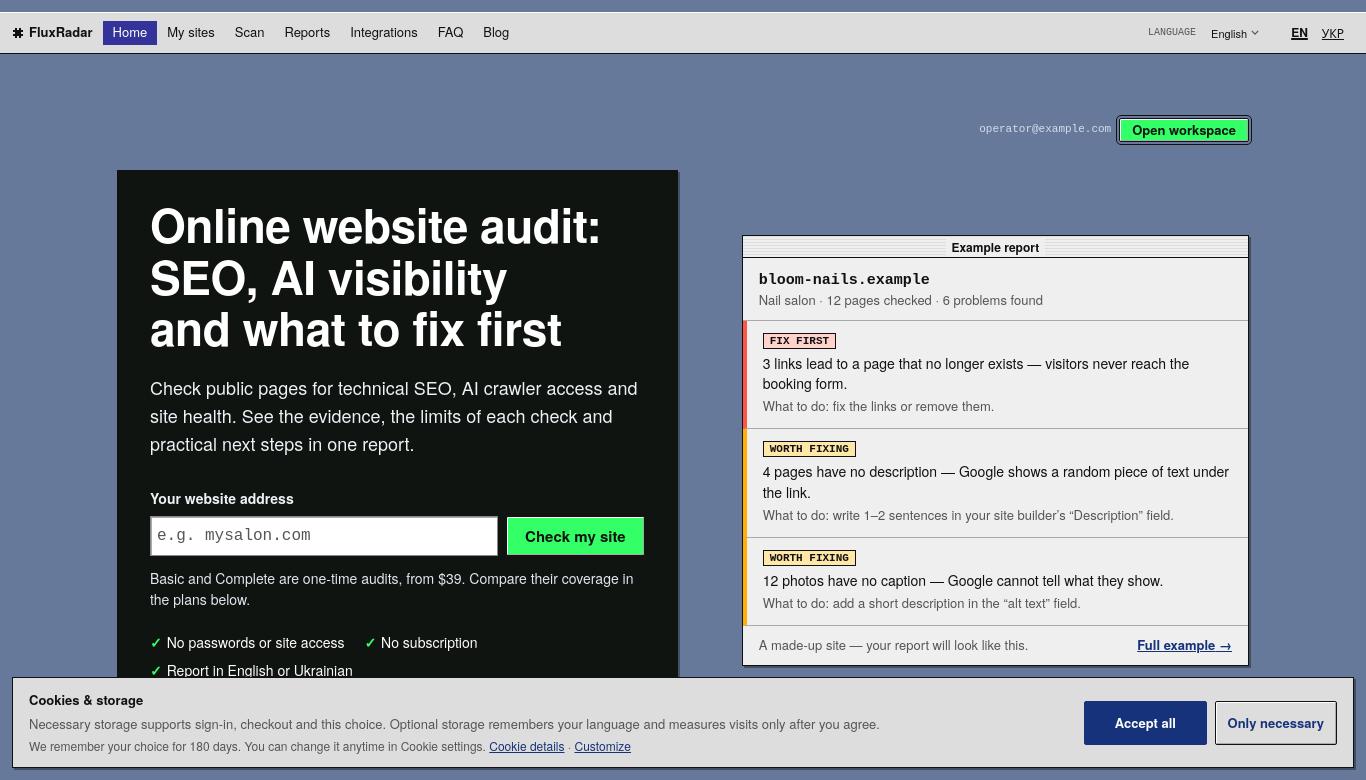
paid checkout flow › falls back to the neutral sentence when the config cannot be read
Expected: the text "operator@example.com" is shown, [979,122,1111,138]
Click the button "Open workspace" at x=1184, y=130, box [1119,118,1249,142]
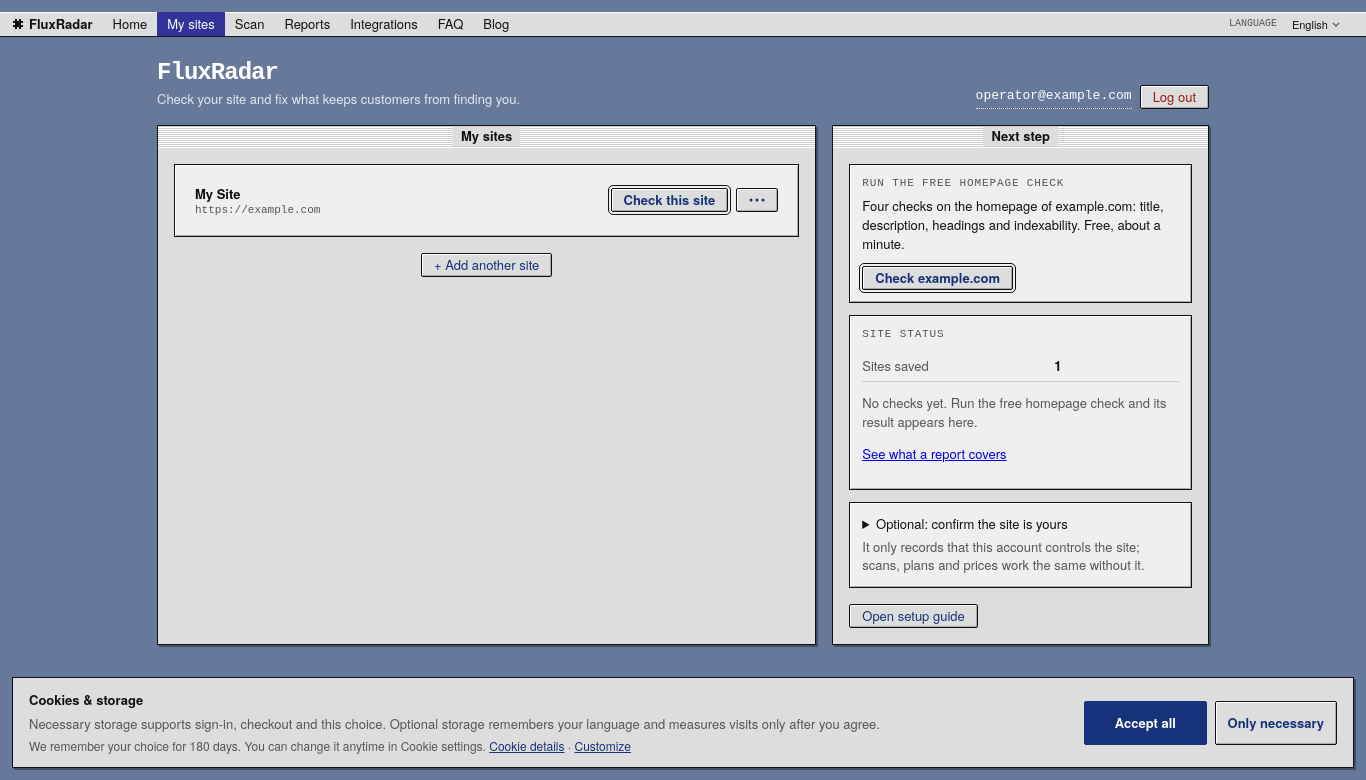
Now the text "My sites" is shown, box [453,127,520,146]
Click the button "Check this site" at x=669, y=200, box [610,188,728,212]
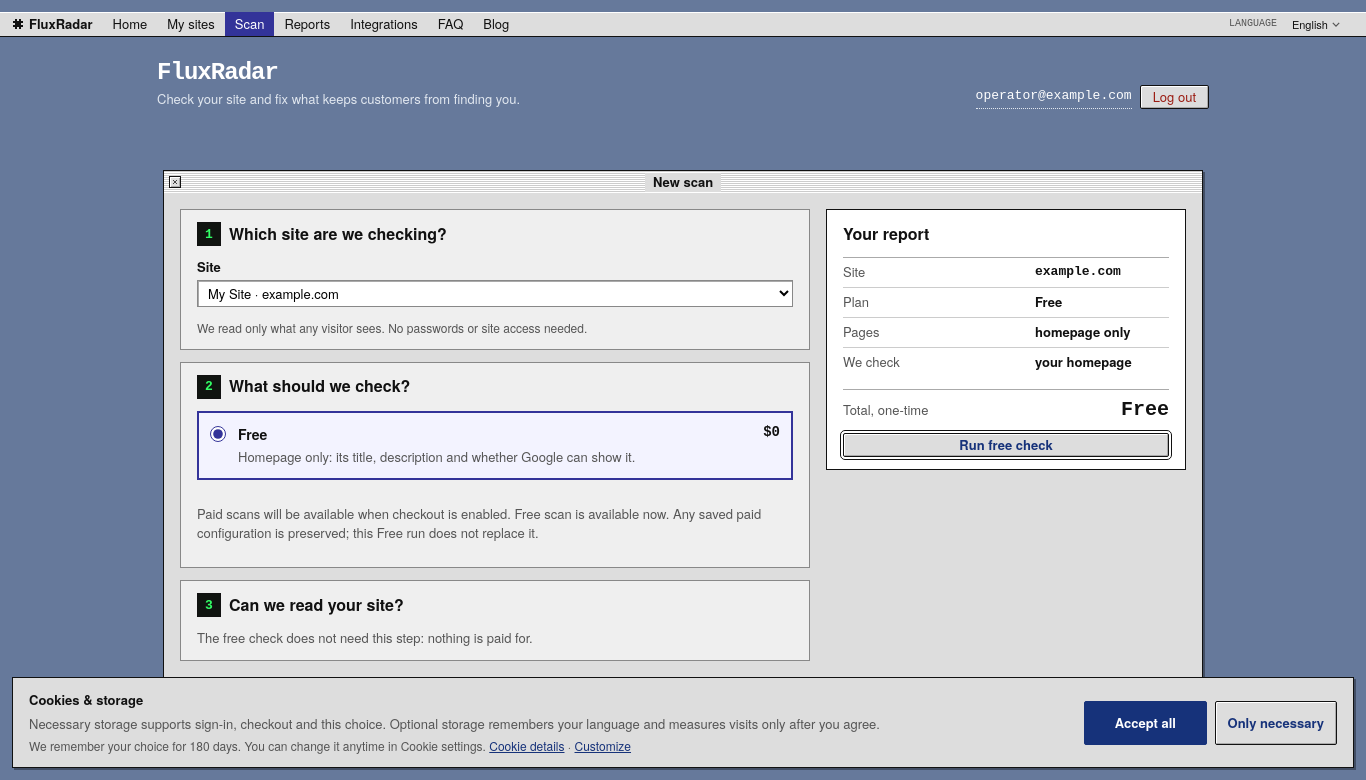
Expected: the radio button labelled "Complete" is not shown
Now the text "New scan" is shown, box [645,173,721,192]
Now the text "Paid scans will be available when checkout is enabled" is shown, box [197,504,761,542]
